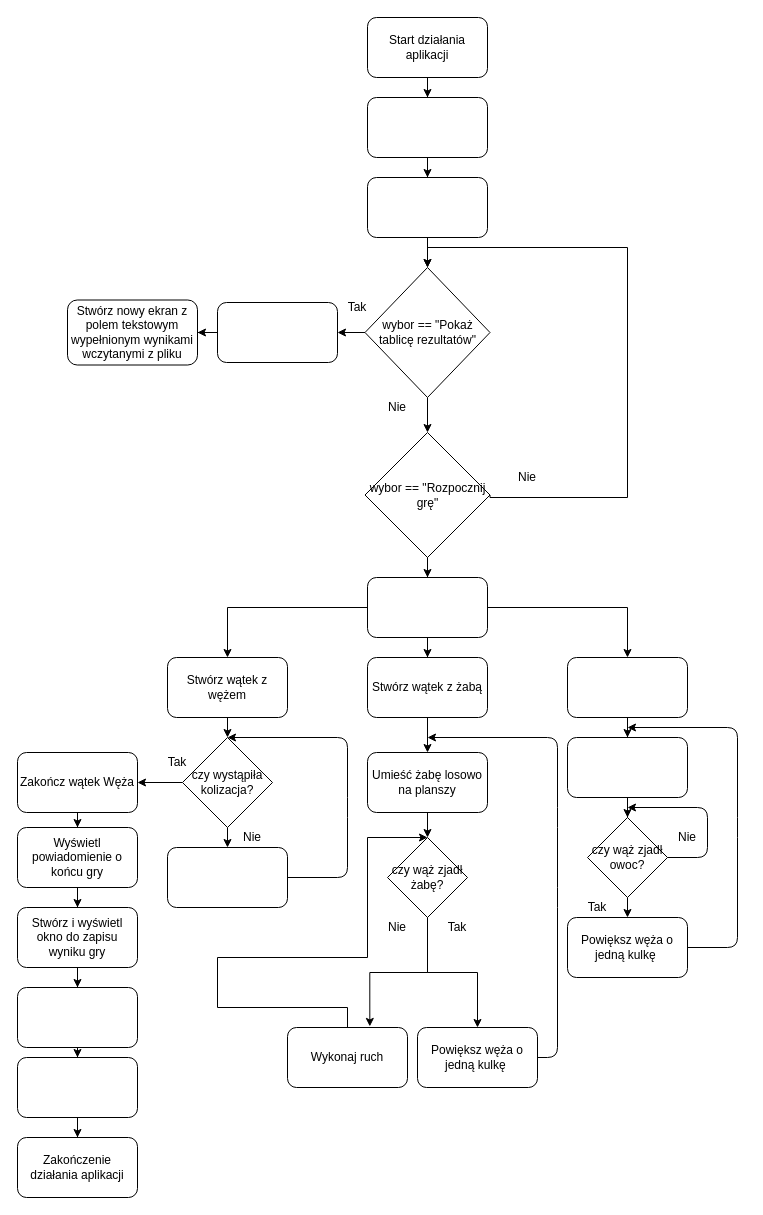
The diagram is 763 pixels wide and 1215 high, and some of its shapes have lost their labels. The shapes that lost their labels are listed below. From the top down, each one's box as (x1, y1, x2, y2) in pixels, then its label:
(366, 96, 488, 158): Utworzenie menu startowego (WelcomeFrame)
(366, 176, 488, 238): Wybierz co chcesz zrobić
(216, 302, 338, 362): Zamknij ekran startowy
(366, 576, 488, 638): Stwórz nowy ekran z polem gry
(566, 656, 688, 718): Stwórz wątek generatora owoców
(566, 736, 688, 798): Umieść owoc losowo na planszy
(166, 846, 288, 908): Wykonaj ruch zgodnie z wyborem gracza na klawiaturze
(16, 986, 138, 1048): Napisz swoją nazwę w polu tekstowym
(16, 1056, 138, 1118): Zapisz wynik w pliku
